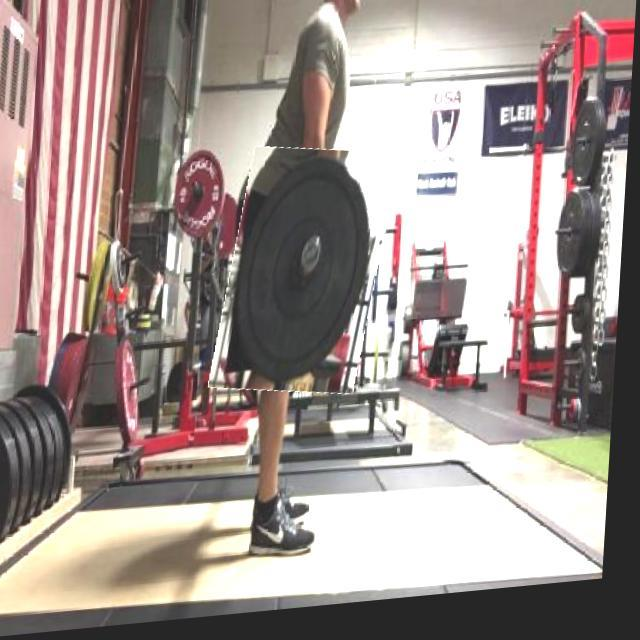barbell: (221, 147, 396, 408)
